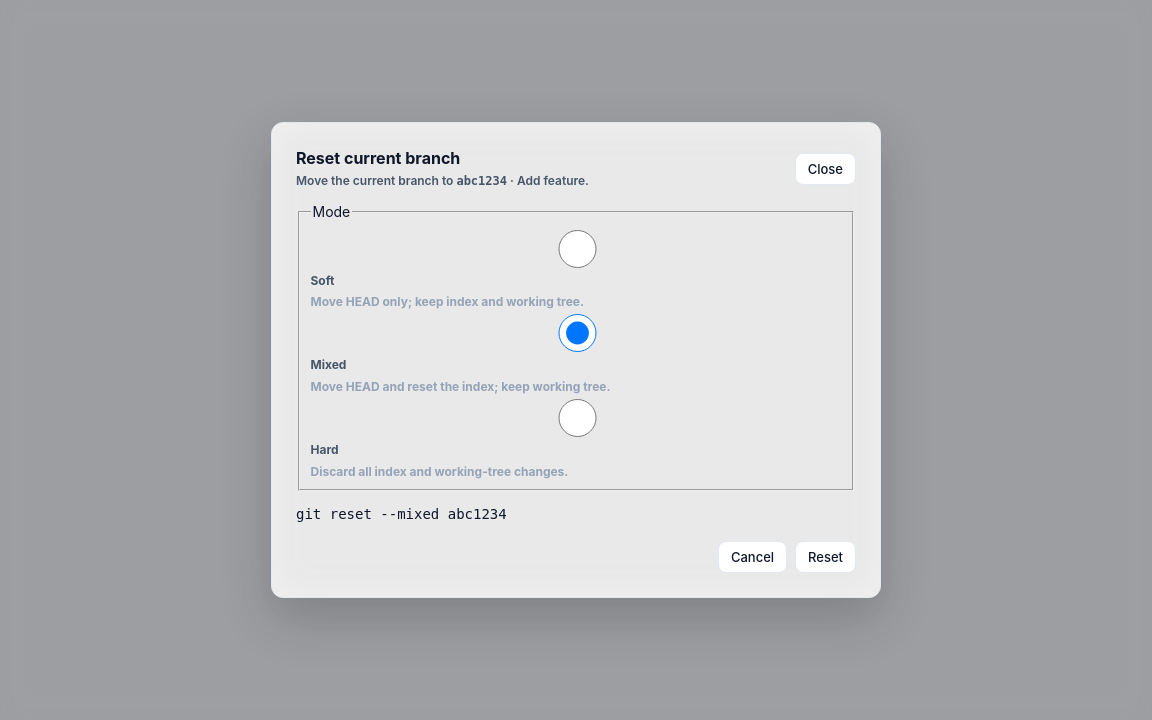
Scenario: ResetDialog › shows the error banner and keeps the dialog open when reset fails
This screenshot has width=1152, height=720.
Click the button "Reset" at (826,557), box [795,541,856,573]
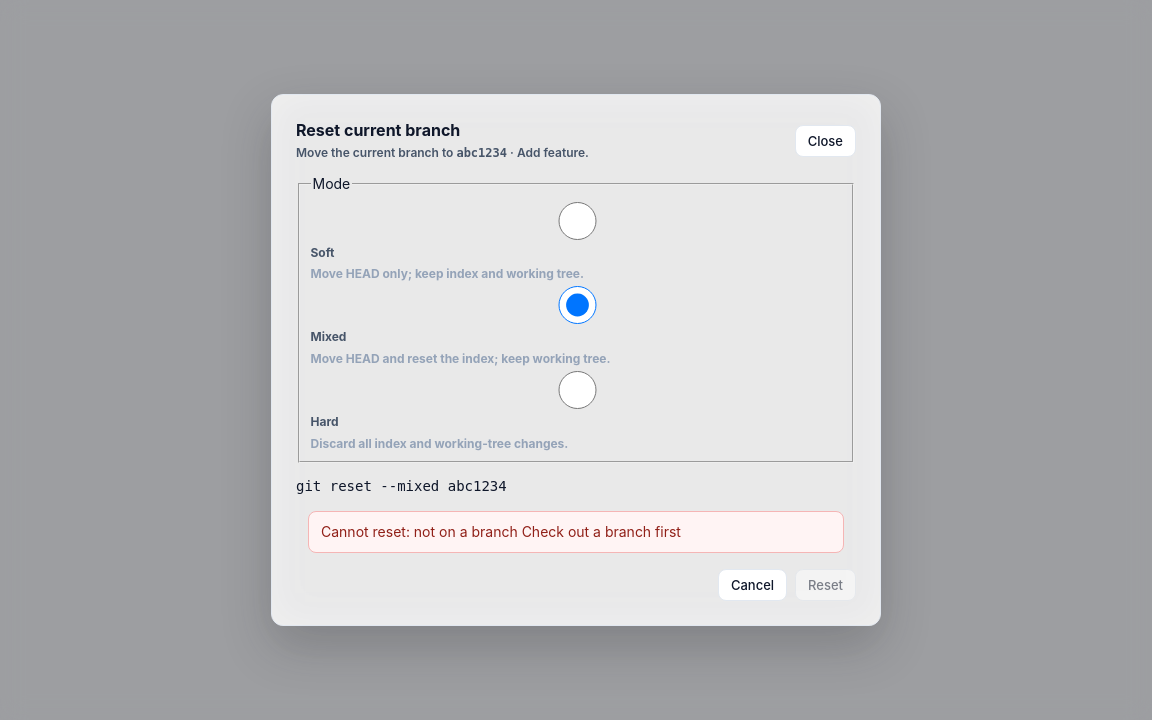
Result: the message shows "Cannot reset: not on a branch" at [321,523,518,540]
